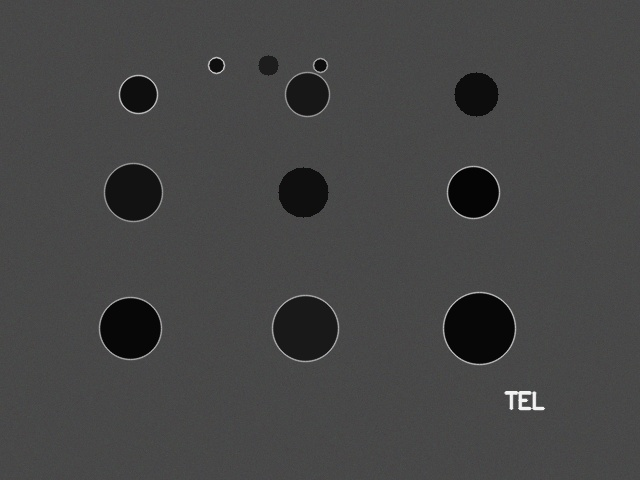hole: (443, 292, 515, 364), (272, 295, 338, 361), (99, 297, 161, 359), (104, 163, 162, 221), (447, 166, 499, 218), (278, 167, 328, 217), (285, 72, 329, 116), (454, 72, 498, 116), (119, 75, 157, 113), (258, 55, 278, 75), (208, 57, 224, 73), (313, 58, 327, 72)
